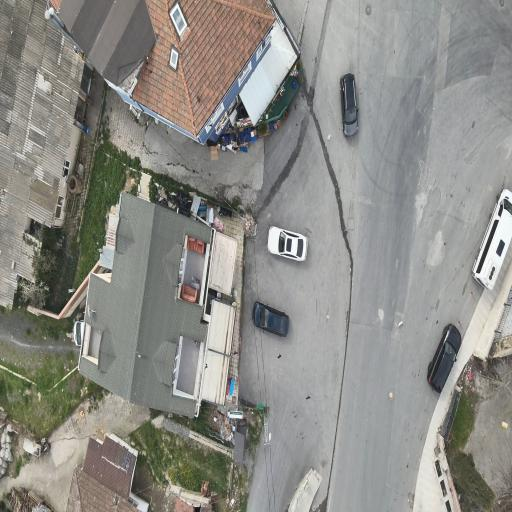car: (472, 189, 512, 290), (427, 324, 461, 392), (268, 227, 307, 260), (253, 302, 289, 336), (340, 74, 358, 138), (73, 321, 84, 347)
